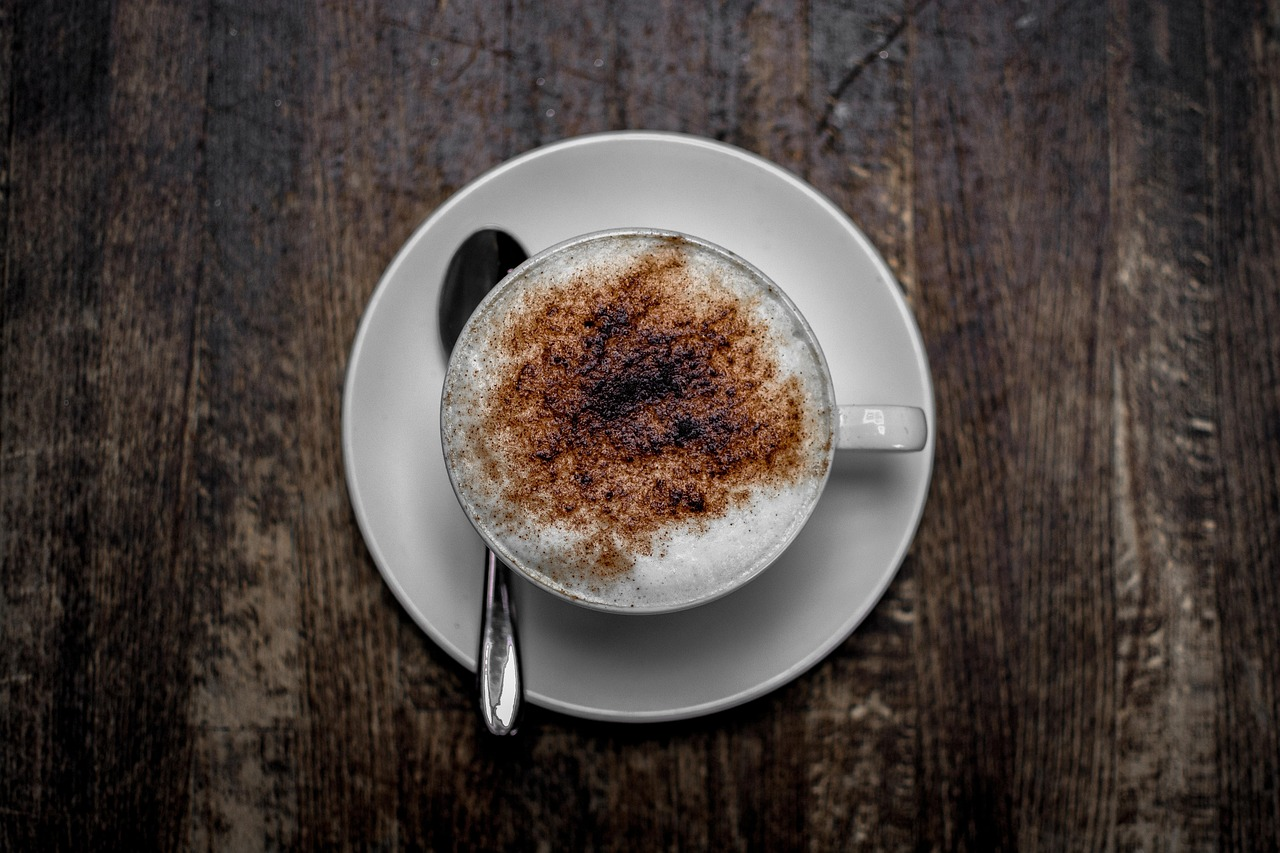mug: (434, 214, 951, 661)
